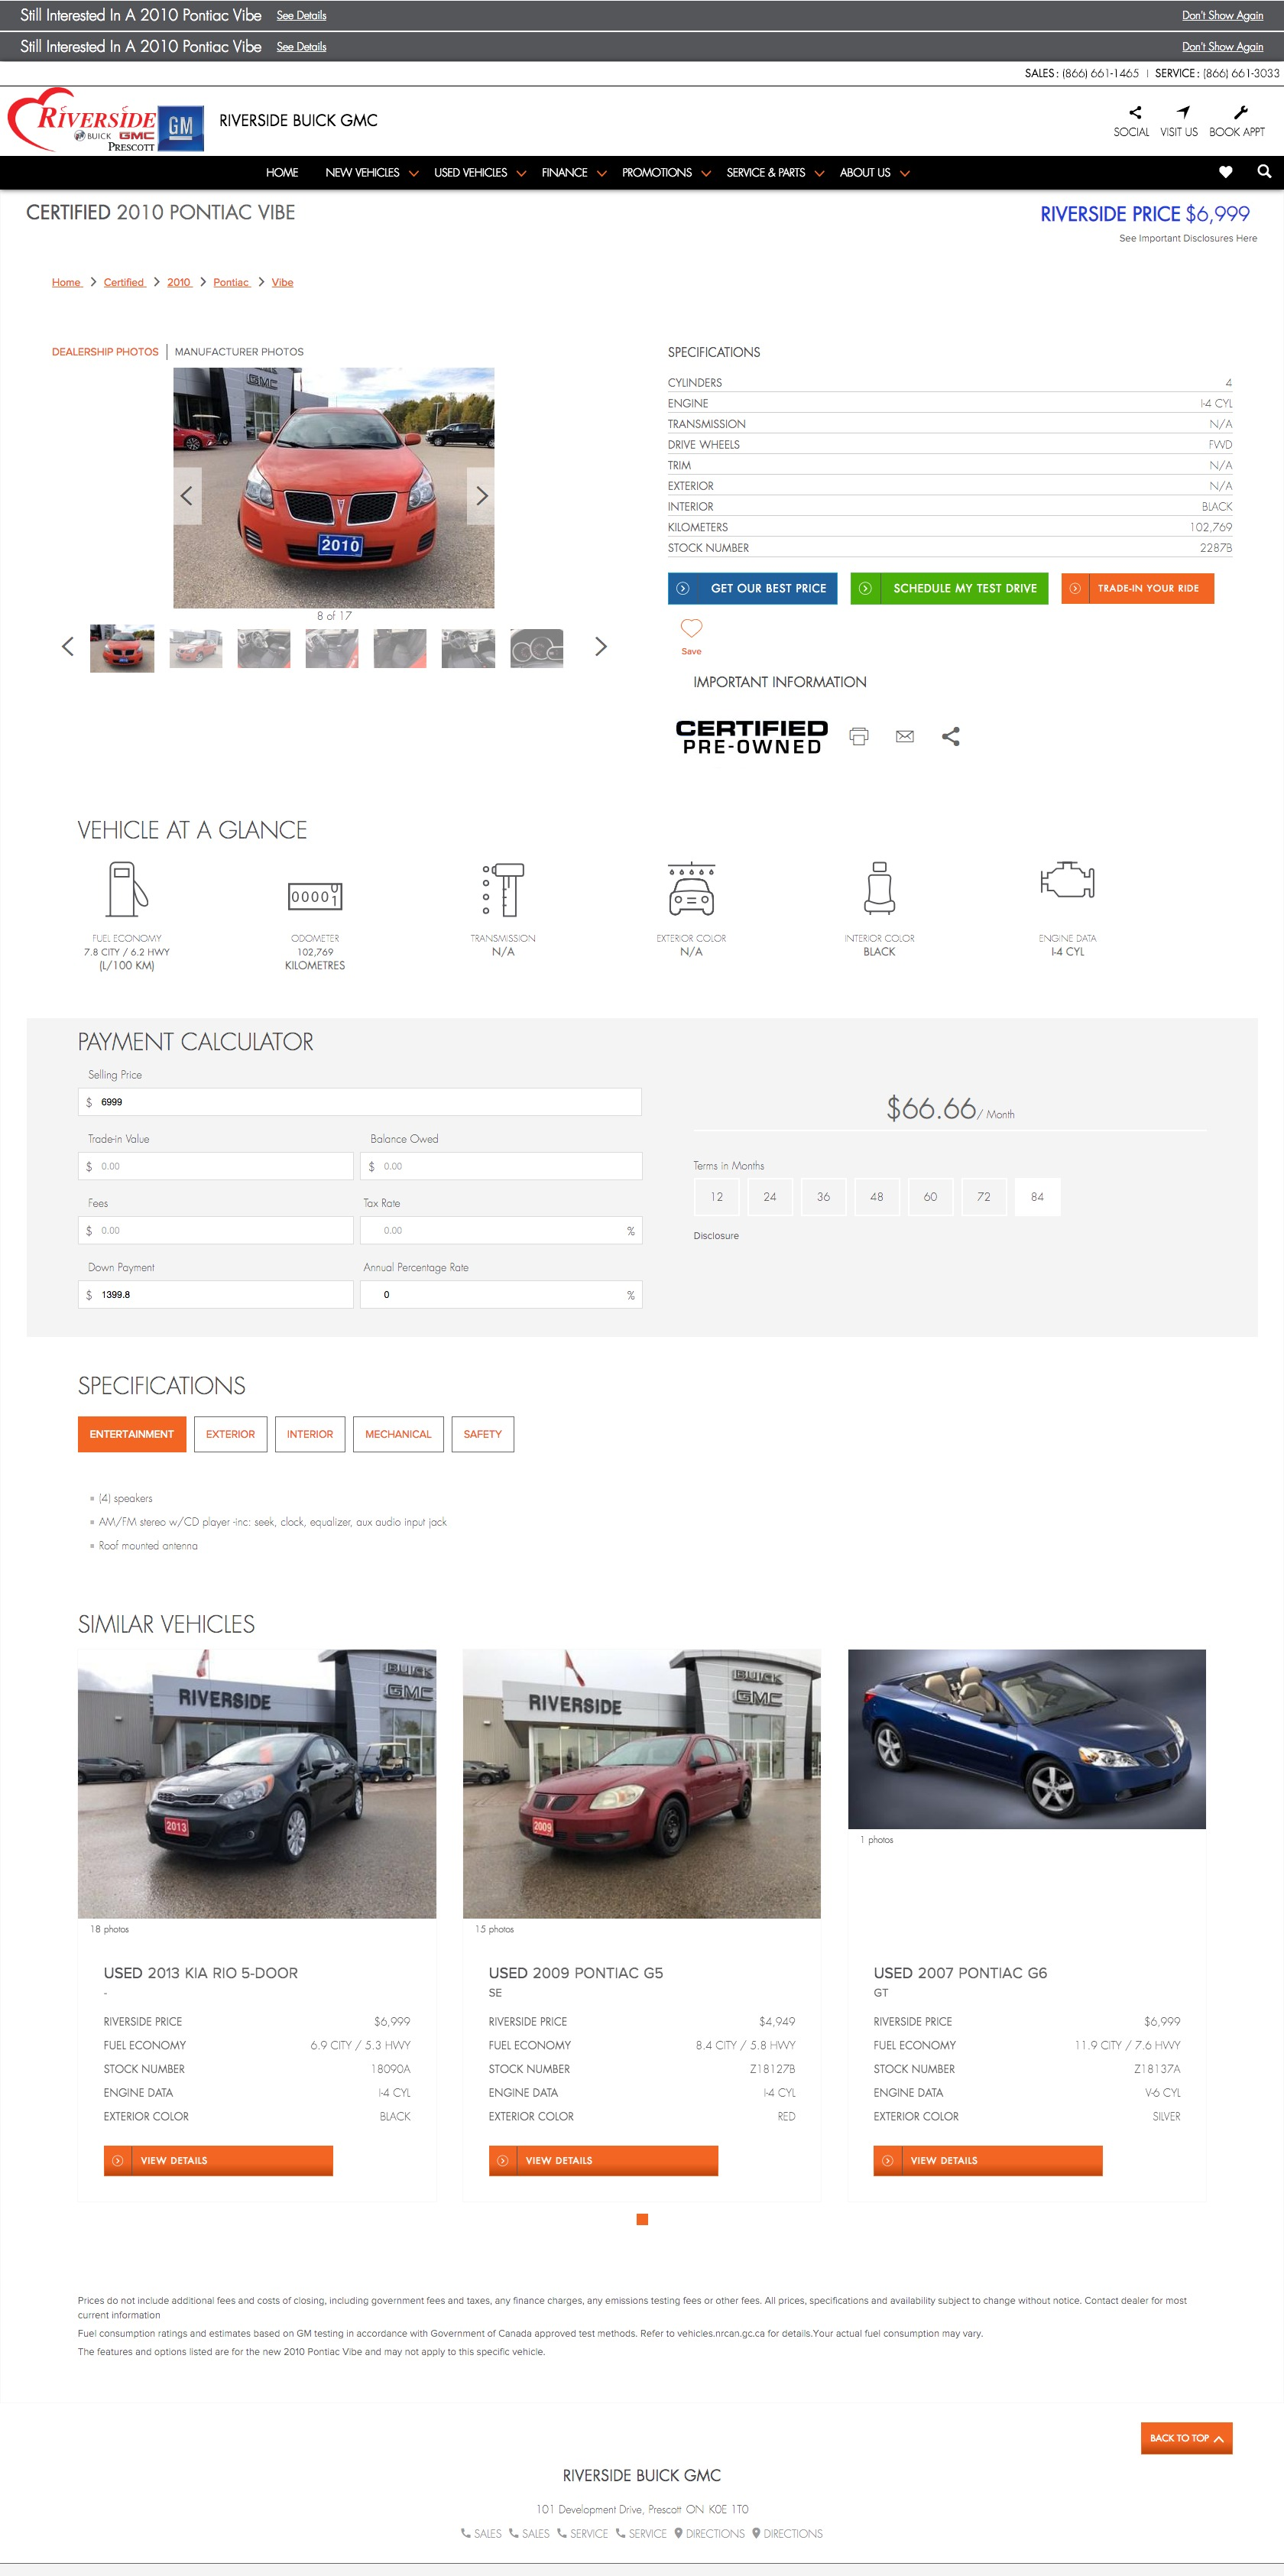car: (594, 636, 609, 659)
